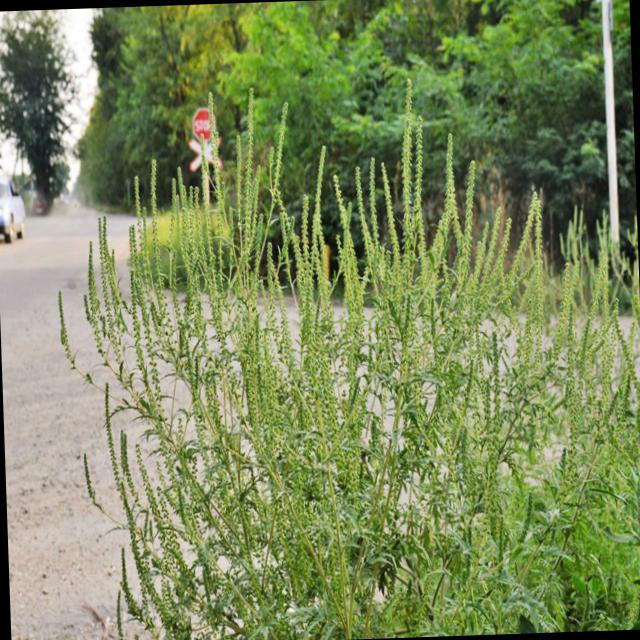ambrosia: (123, 458, 414, 638), (55, 193, 269, 431), (358, 95, 502, 376), (450, 258, 635, 460), (194, 94, 346, 296), (274, 306, 390, 416)
